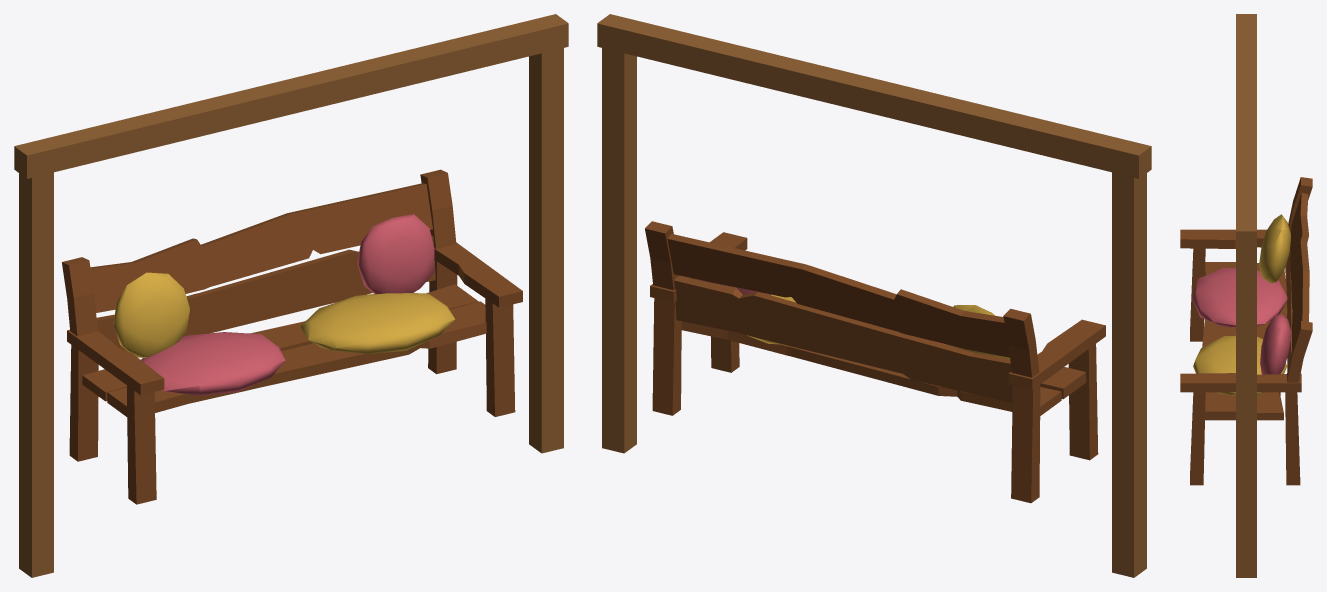
File: bench_swing-1.glb
The picture shows the model from 3 angles, left to right: view 1: azimuth 30°, elevation 25°; view 2: azimuth 150°, elevation 25°; view 3: azimuth 270°, elevation 25°; orthographic projection. The views are drawn at different scales.
Visible parts, largest first — view 1: decor-bench_swing-1; view 2: decor-bench_swing-1; view 3: decor-bench_swing-1.
Boxes of the visible parts, x1,y1,x2,y2 form: decor-bench_swing-1: [14, 14, 568, 577]; decor-bench_swing-1: [597, 14, 1151, 577]; decor-bench_swing-1: [1180, 14, 1312, 577].
Size of the model in its own units: 3.4 by 2.54 by 0.875.
